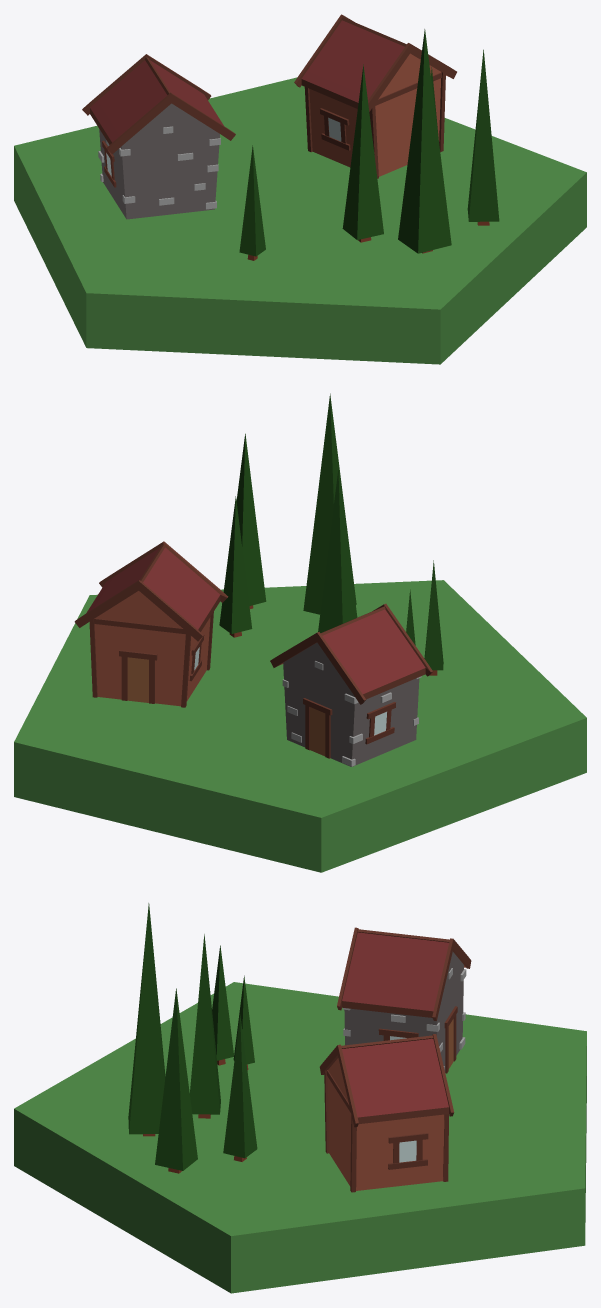
File: Planet_VillageWhole_Pentagon (1).fbx
3 views of the same model, one above another, from view 1: azimuth 30°, elevation 25°; view 2: azimuth 150°, elevation 25°; view 3: azimuth 270°, elevation 25° (orthographic). The views are drawn at different scales.
Visible parts, largest first — view 1: polySurface10, pCube108 (×2), pCube44, pCube40, pCube41, pCube34; view 2: polySurface10, pCube108 (×2), pCube44, pCube40, pCube41, pCube37, pCube129 (×2), pCube34; view 3: polySurface10, pCube108 (×2), pCube44, pCube41, pCube40, pCube37, pCube34, pCube36.
Boxes of the visible parts, bbox=[...] form: polySurface10: bbox=[14, 77, 586, 364]; pCube108 (×2): bbox=[82, 14, 456, 219]; pCube44: bbox=[398, 29, 451, 253]; pCube40: bbox=[342, 64, 383, 239]; pCube41: bbox=[467, 49, 499, 221]; pCube34: bbox=[239, 145, 265, 256]; polySurface10: bbox=[14, 580, 586, 872]; pCube108 (×2): bbox=[74, 541, 432, 766]; pCube44: bbox=[303, 393, 356, 614]; pCube40: bbox=[318, 468, 357, 632]; pCube41: bbox=[236, 433, 266, 605]; pCube37: bbox=[219, 496, 252, 633]; pCube129 (×2): bbox=[127, 657, 325, 756]; pCube34: bbox=[424, 560, 443, 670]; polySurface10: bbox=[14, 982, 586, 1293]; pCube108 (×2): bbox=[319, 927, 471, 1190]; pCube44: bbox=[128, 903, 165, 1134]; pCube41: bbox=[155, 988, 197, 1170]; pCube40: bbox=[189, 934, 220, 1114]; pCube37: bbox=[223, 1014, 257, 1158]; pCube34: bbox=[212, 945, 233, 1060]; pCube36: bbox=[233, 975, 254, 1064].
Bounding box in the file's own units: 5.08 × 2.7 × 4.84.
